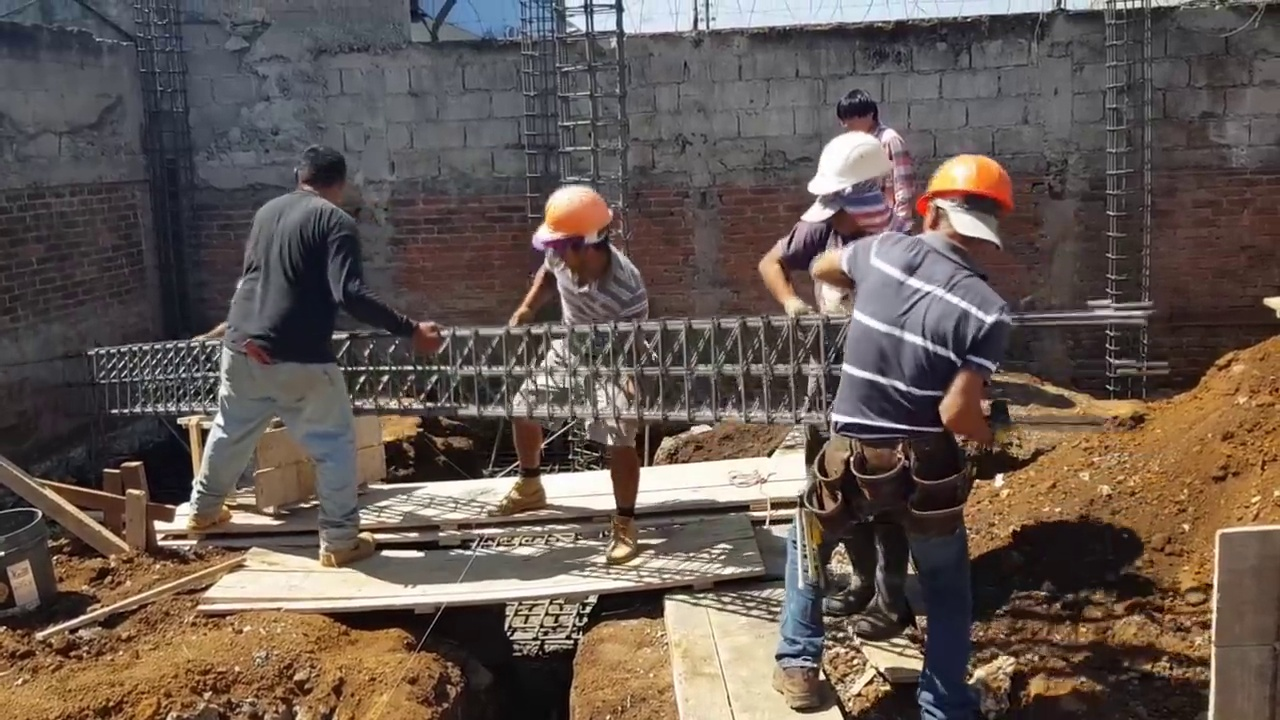helmet: (918, 147, 1021, 219), (803, 129, 899, 204), (535, 182, 618, 252)
helmet-off: (292, 147, 348, 206), (835, 88, 878, 134)
helmet-on: (803, 127, 901, 245), (919, 150, 1021, 262), (534, 189, 627, 288)
person: (766, 147, 1020, 718), (176, 129, 442, 564), (489, 184, 646, 562), (756, 128, 916, 319), (836, 87, 915, 236)
